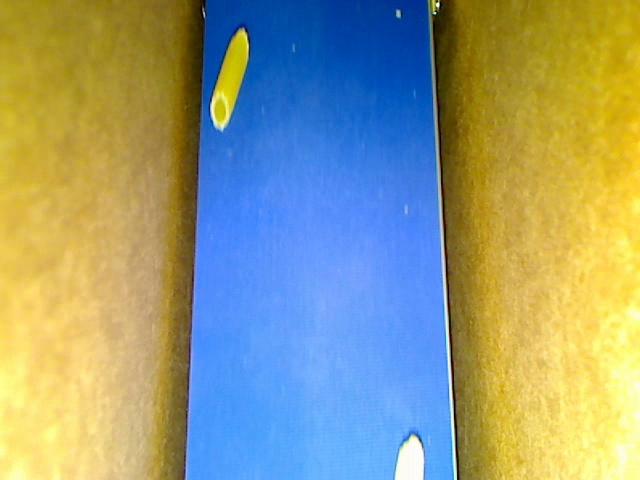penne: (209, 27, 248, 132)
